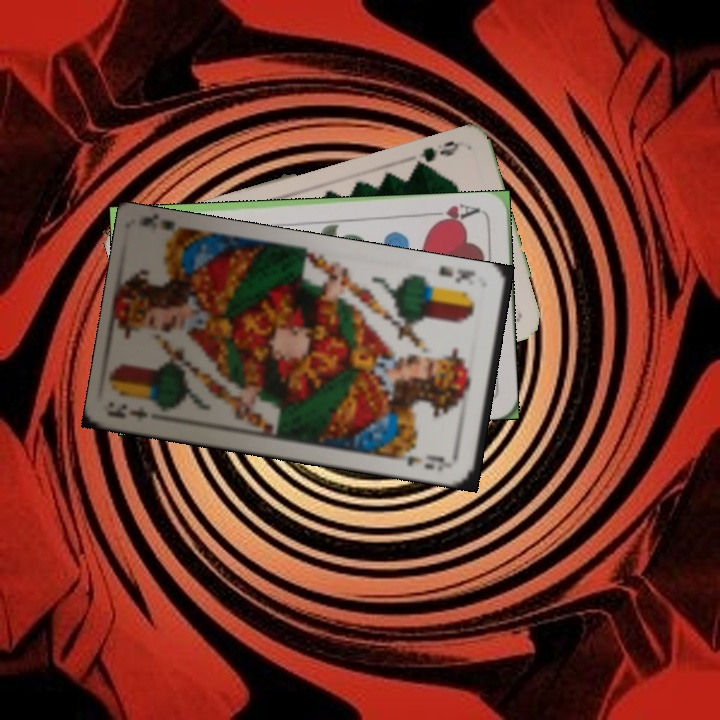EK: (434, 262, 478, 287), (109, 399, 151, 423)
G9: (410, 136, 462, 170)
HA: (425, 199, 483, 228)
